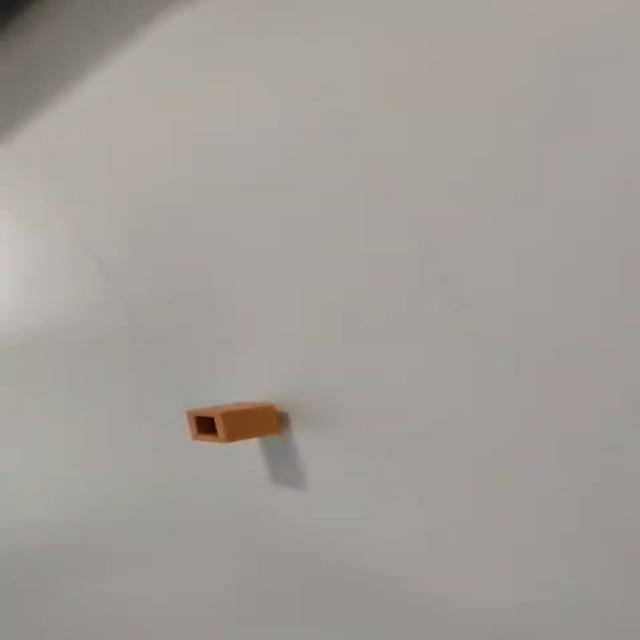C1x1x1: (184, 402, 300, 443)
